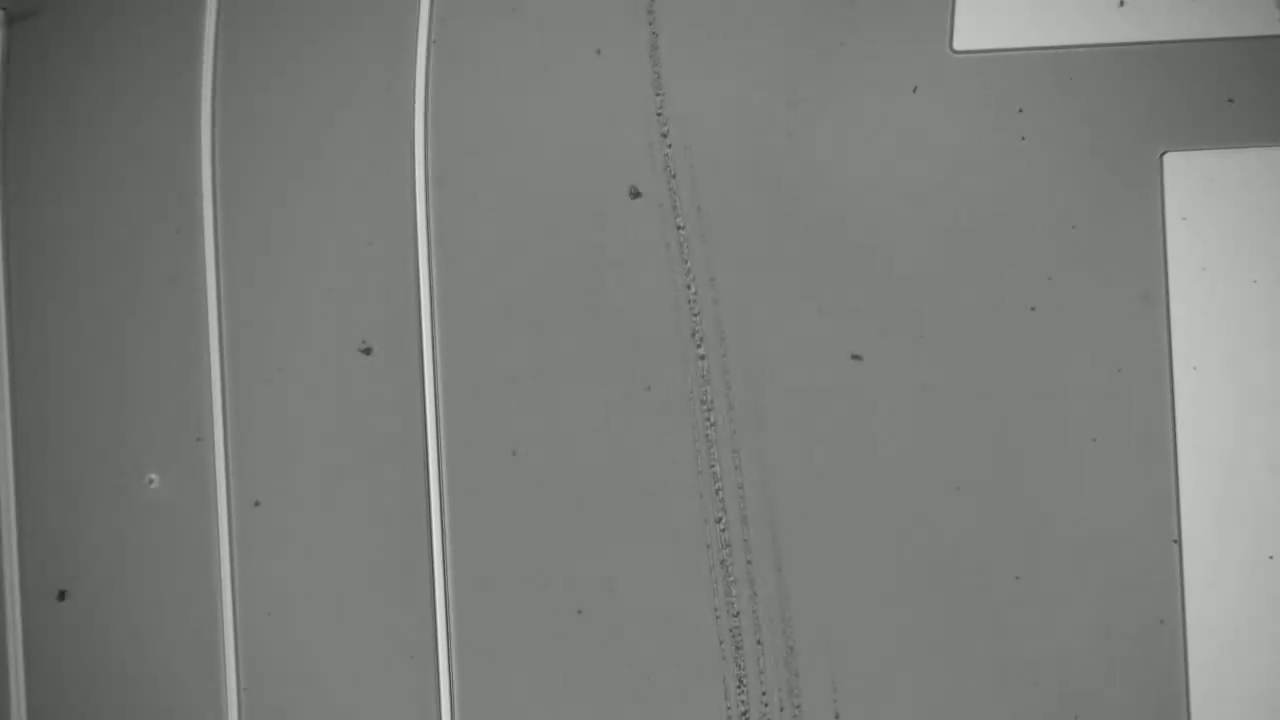scratch: (639, 4, 844, 716)
